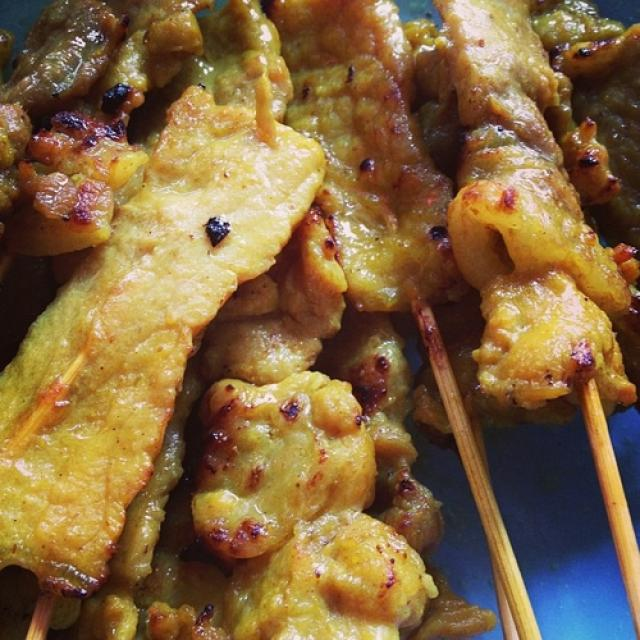牛肉菜式: (19, 16, 613, 618)
